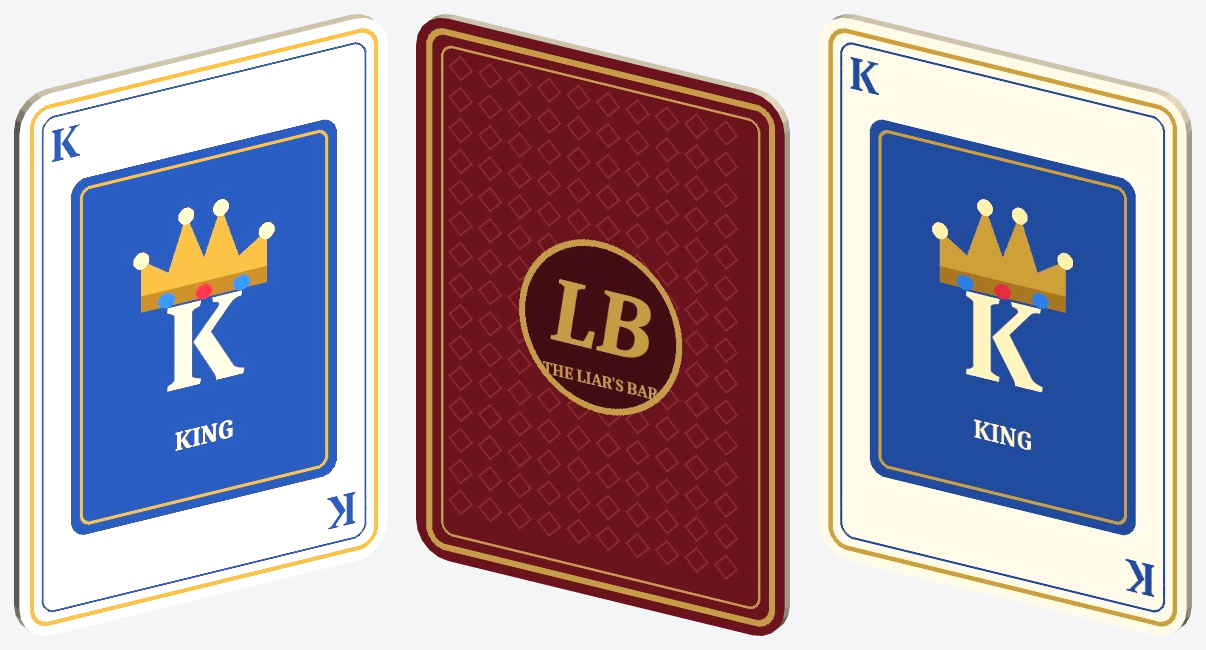
The model's file is lb4_card_k.glb.
The picture shows the model from 3 angles, left to right: view 1: azimuth 30°, elevation 25°; view 2: azimuth 150°, elevation 25°; view 3: azimuth 330°, elevation 25°; orthographic projection.
Parts seen in each view (by area): view 1: lb4_card_k; view 2: lb4_card_k; view 3: lb4_card_k.
Part boxes in pixels (x1,y1,x2,y2): lb4_card_k: (14, 14, 387, 635); lb4_card_k: (416, 14, 789, 635); lb4_card_k: (818, 14, 1191, 635).
Size of the model in its own units: 0.32 by 0.45 by 0.008.
3 materials, 2 textured.
